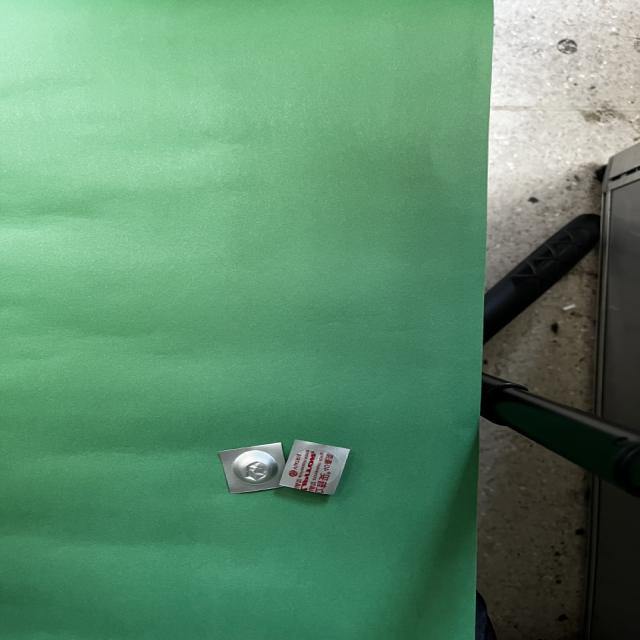Other Objects: (220, 440, 349, 494)
